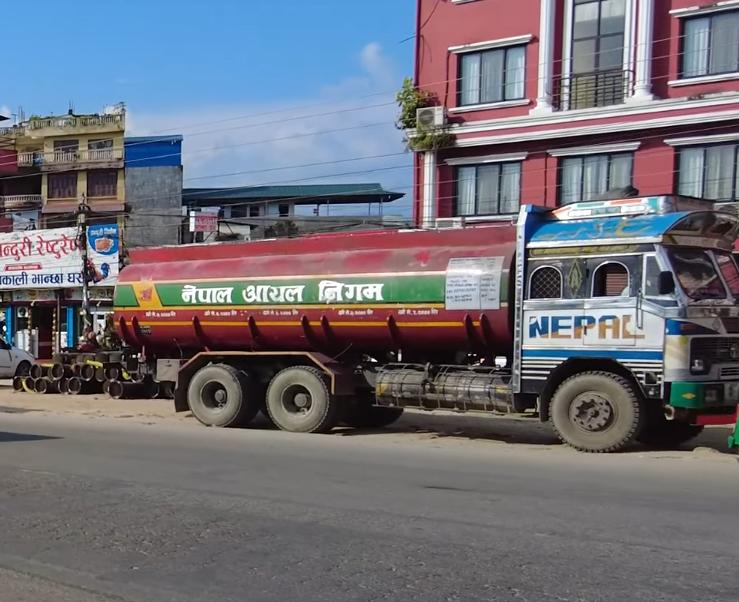truck: (108, 192, 738, 453)
